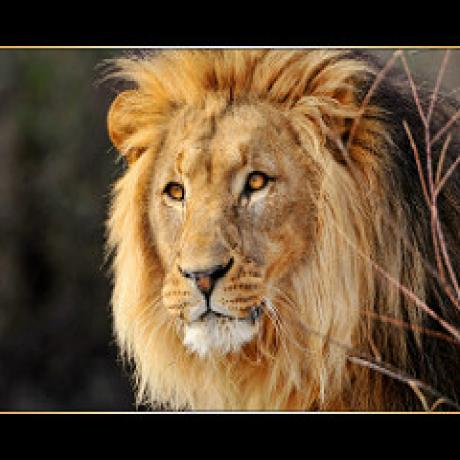Lion: (105, 48, 460, 412)
